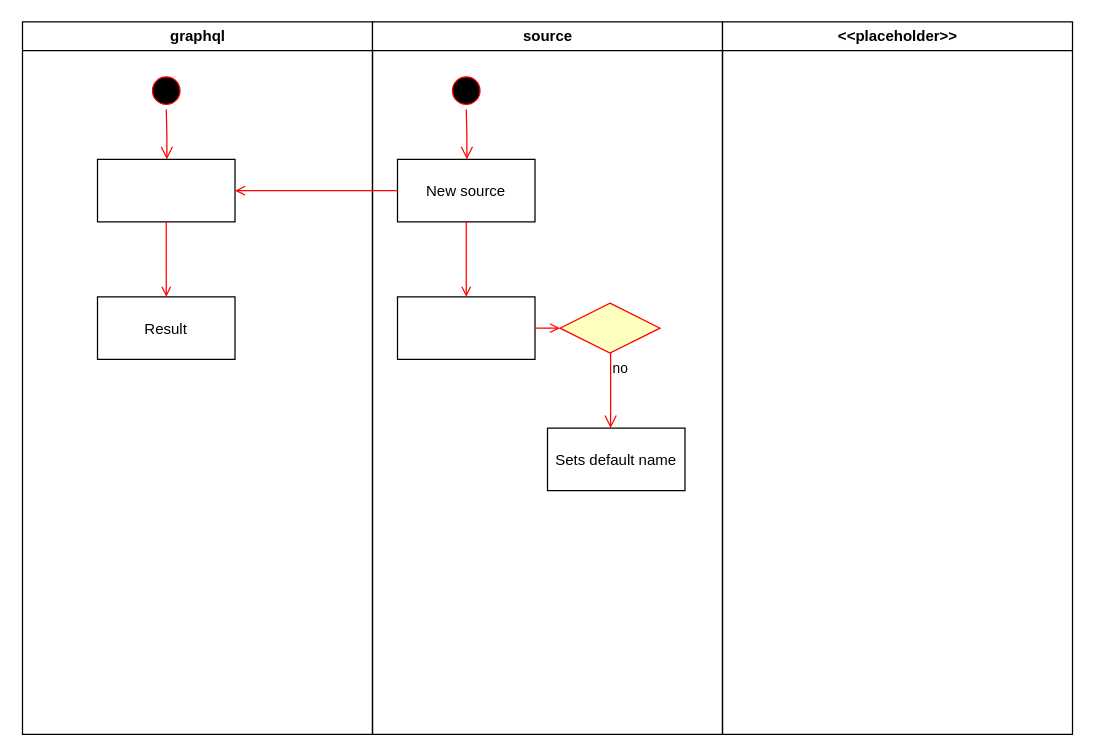
This 1094x756 diagram has some shape labels left out. Each missing label, with the centre of its shape:
Check for source name: pixel 465 327
Do: pixel 165 190
name present ?: pixel 609 327
